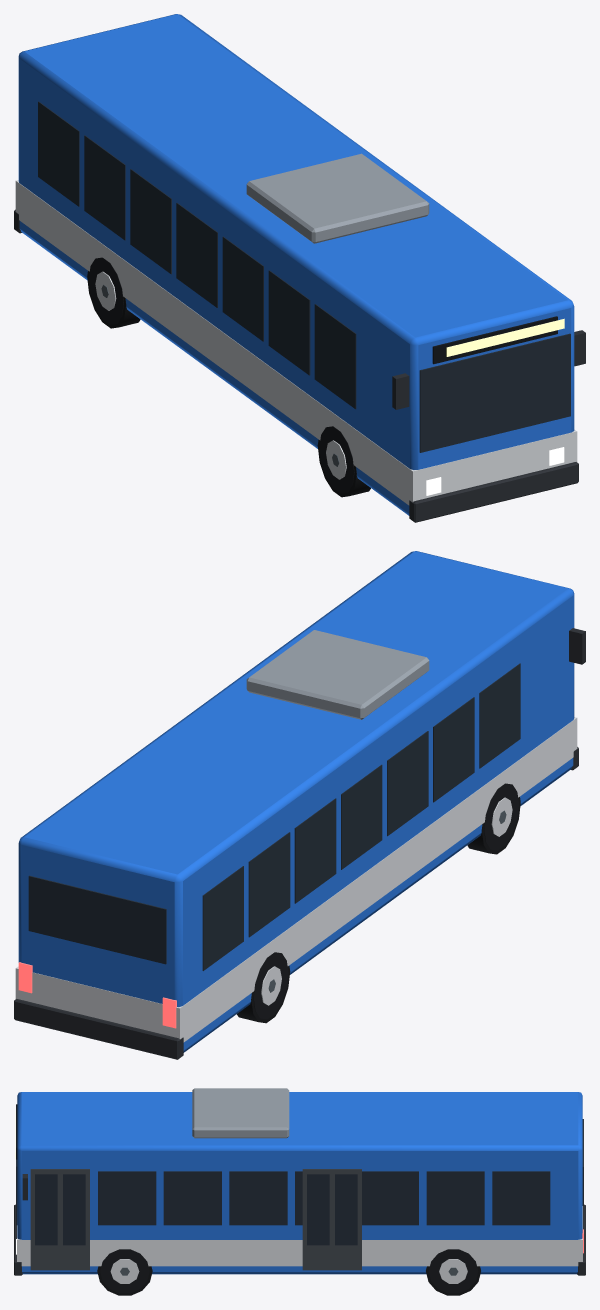
File: bus.glb
3 views of the same model, one above another, from view 1: azimuth 30°, elevation 25°; view 2: azimuth 150°, elevation 25°; view 3: azimuth 270°, elevation 25° (orthographic). The views are drawn at different scales.
Visible parts, largest first — view 1: bus; view 2: bus; view 3: bus.
Part boxes in pixels (bbox=[...]): bus: bbox=[14, 14, 585, 522]; bus: bbox=[14, 551, 585, 1059]; bus: bbox=[14, 1088, 585, 1295].
Bounding box in the file's own units: 2.9 × 3.26 × 10.62.
